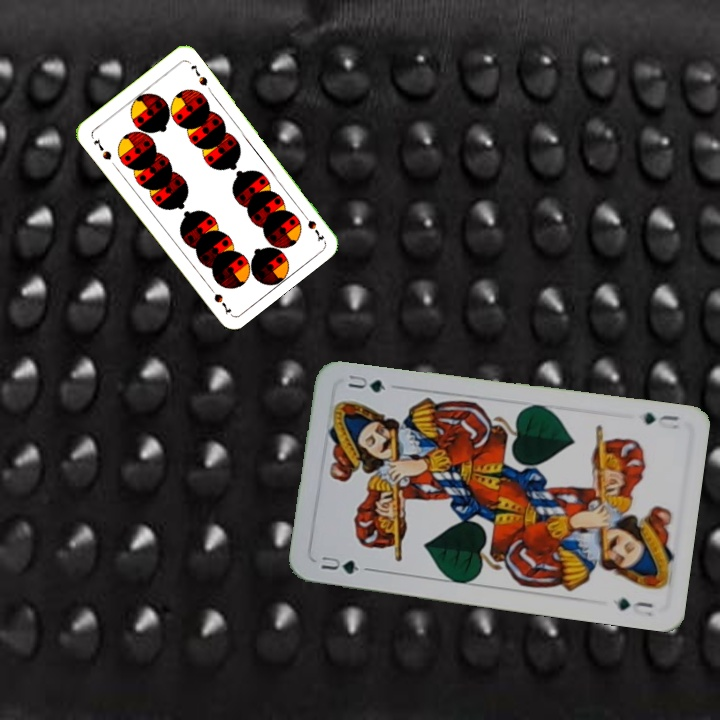GU: (317, 552, 362, 577), (640, 408, 683, 432)
S7: (298, 208, 326, 244), (89, 134, 114, 163)
